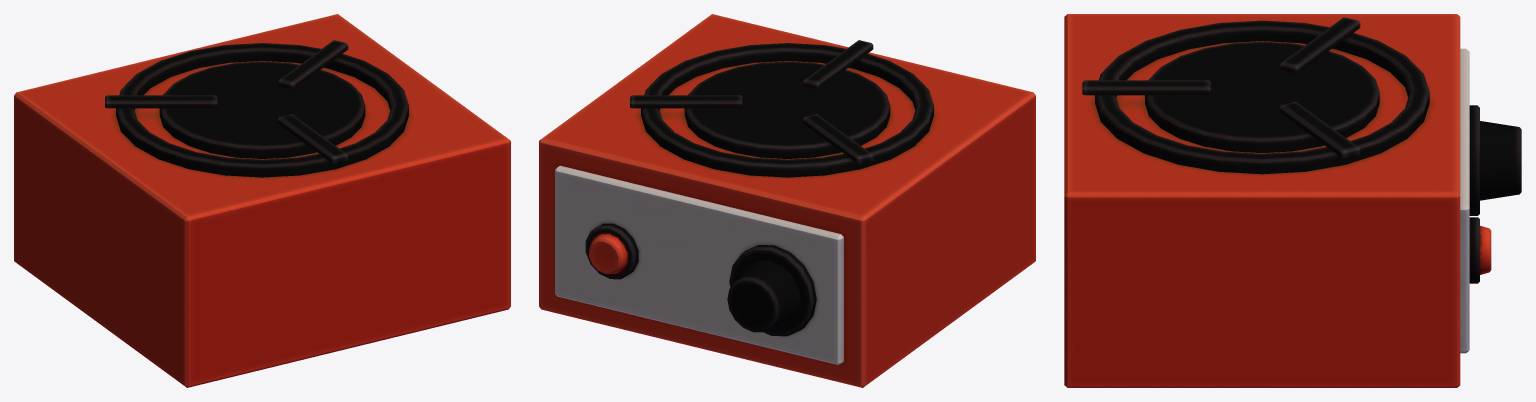
Rendered from StoveCounter.fbx.
3 renders of one model, left to right at view 1: azimuth 30°, elevation 25°; view 2: azimuth 150°, elevation 25°; view 3: azimuth 270°, elevation 25°, orthographic. The views are drawn at different scales.
Parts seen in each view (by area): view 1: Stove; view 2: Stove; view 3: Stove.
Part boxes in pixels (x1,y1,x2,y2): Stove: [14, 14, 510, 387]; Stove: [539, 14, 1035, 387]; Stove: [1064, 14, 1521, 387].
Size of the model in its own units: 200 by 110 by 213.
Materials: 1 (1 with a texture image).
